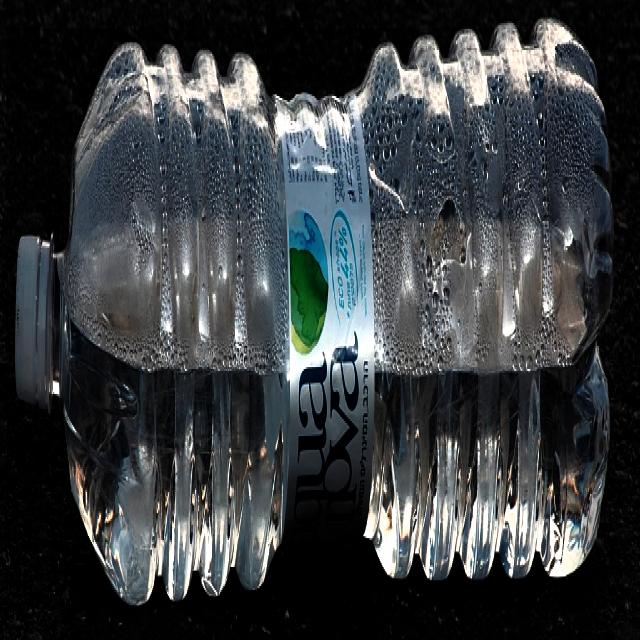half-bottle: (6, 28, 606, 610)
